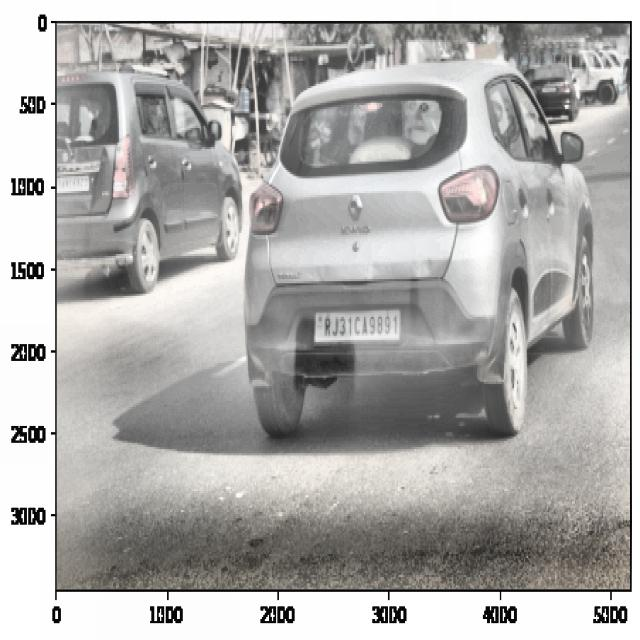license_plate: (318, 311, 403, 343), (54, 173, 90, 195)
